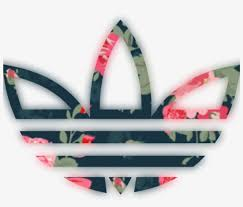adidas: (4, 15, 241, 196)
